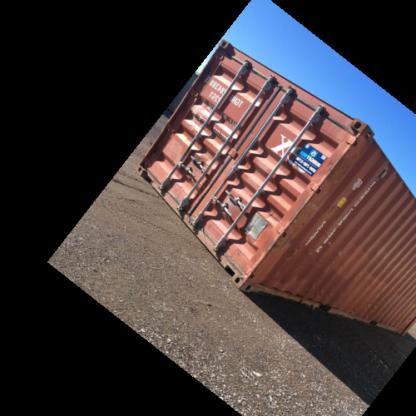Damage: (317, 160, 365, 194), (286, 196, 322, 229), (276, 223, 289, 256), (291, 239, 308, 255), (313, 298, 331, 313)
